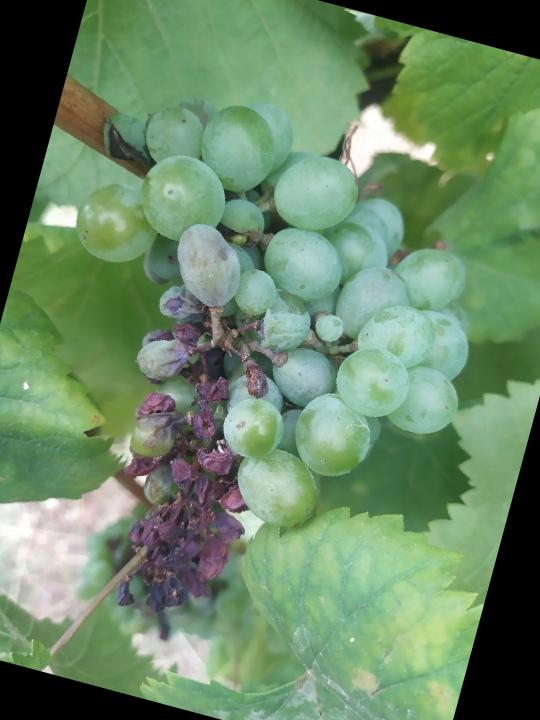grape: (0, 59, 527, 679)
